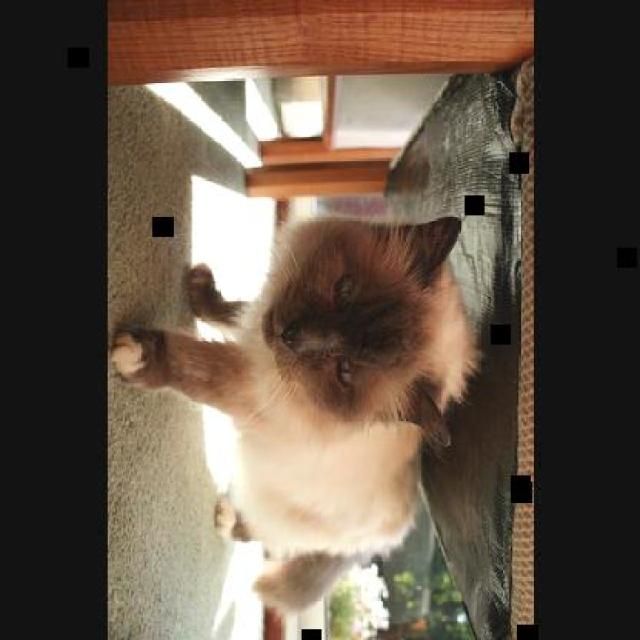unauthorized: (108, 211, 482, 614)
